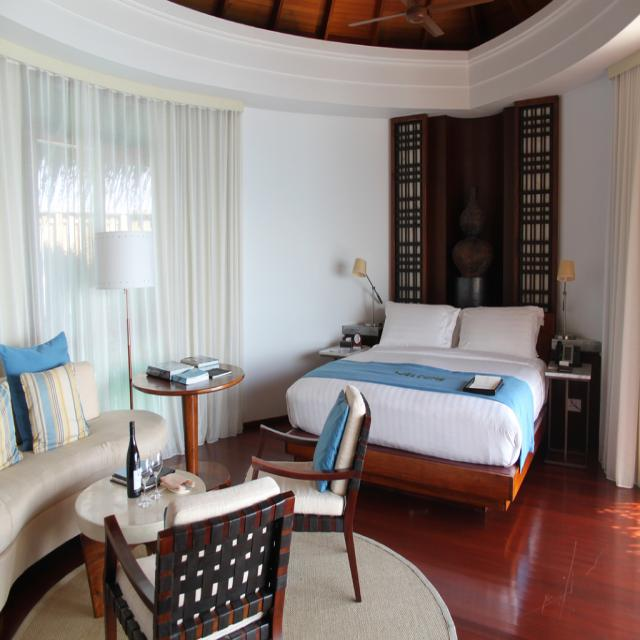Bulb: (346, 0, 488, 42)
